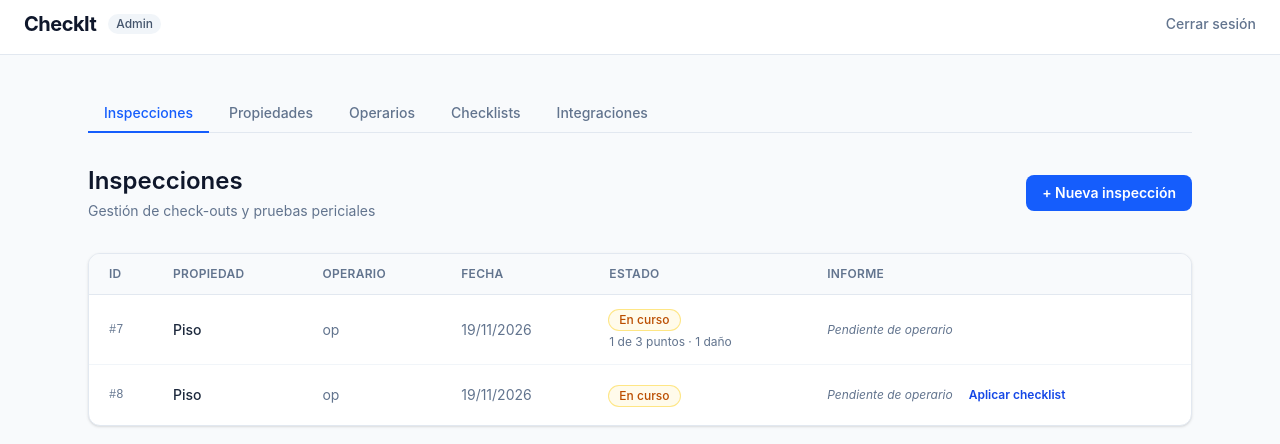
AdminPage: checklists › la pestaña Checklists muestra las plantillas
Click the button "Checklists" at (486, 114), box [435,95,537,133]
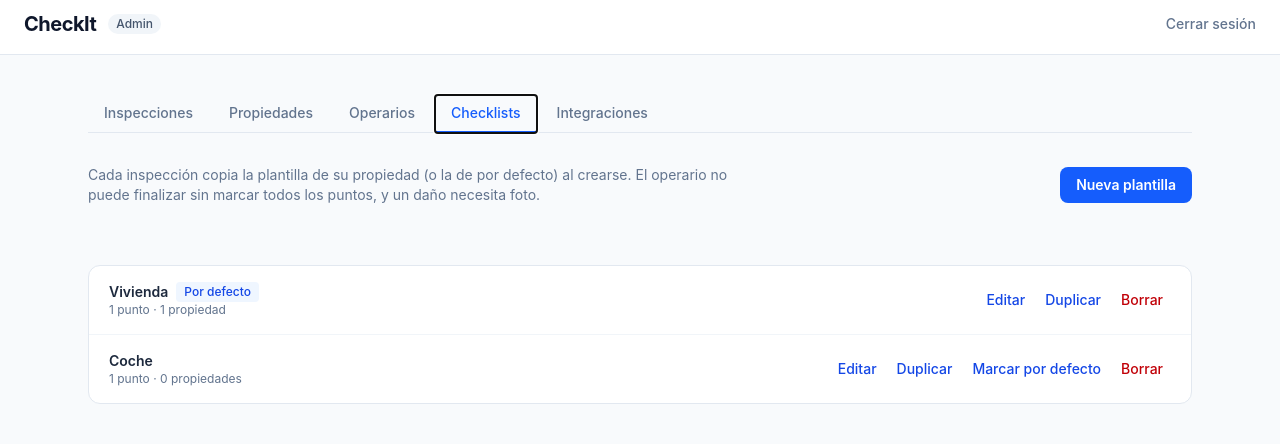
Now the text "Coche" is shown, box [109,351,153,371]
